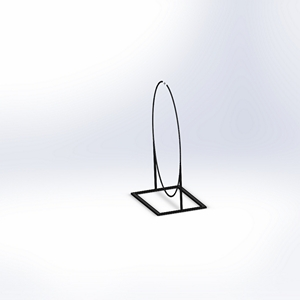circle: (128, 78, 208, 218)
